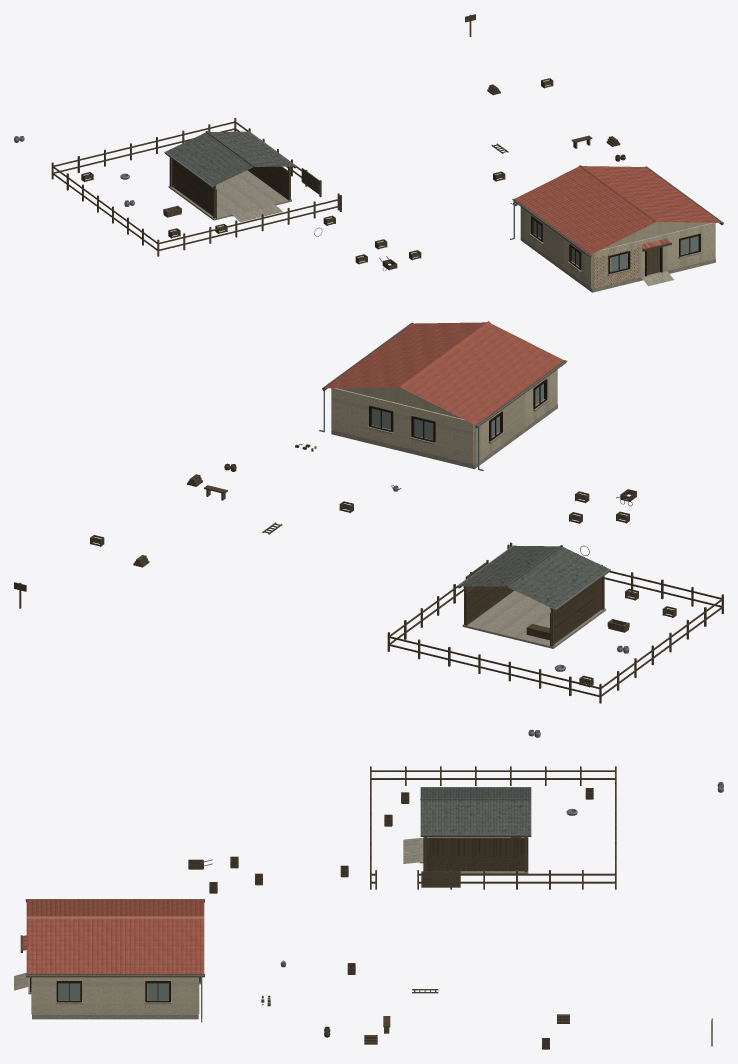
The picture shows the model from 3 angles, top to bottom: view 1: azimuth 30°, elevation 25°; view 2: azimuth 150°, elevation 25°; view 3: azimuth 270°, elevation 25°; orthographic projection. The views are drawn at different scales.
Parts seen in each view (by area): view 1: H15_TELHAS, H15_ABRIGO_RURAL_COBERTURA, H15_FACHADA, H15_CERCADO_TRAVESSAS, H15_ABRIGO_RURAL_BASE, H15_ABRIGO_RURAL_FECHAMENTO, H15_LATERAIS, H15_CERCADO_POSTES, H15_TIJOLOS_APARENTES, H15_OITOES, H15_VIDROS_RECUADOS, H15_FUNDACAO (+1 smaller); view 2: H15_TELHAS, H15_FUNDOS, H15_ABRIGO_RURAL_COBERTURA, H15_ABRIGO_RURAL_BASE, H15_ABRIGO_RURAL_FECHAMENTO, H15_CERCADO_TRAVESSAS, H15_LATERAIS, H15_CERCADO_POSTES, H15_OITOES, H15_FUNDACAO, H15_VIDROS_RECUADOS, H15_CAIXILHOS; view 3: H15_TELHAS, H15_ABRIGO_RURAL_COBERTURA, H15_LATERAIS, H15_ABRIGO_RURAL_FECHAMENTO, H15_CERCADO_TRAVESSAS, H15_CERCADO_POSTES, H15_FUNDACAO, H15_VIDROS_RECUADOS, H15_BEIRAIS, H15_CERCADO_CANCELA_RECOLHIDA, H15_CALHA, H15_CUMEEIRA (+1 smaller).
Part boxes in pixels (bbox=[...]): H15_TELHAS: bbox=[515, 166, 721, 254]; H15_ABRIGO_RURAL_COBERTURA: bbox=[166, 131, 294, 186]; H15_FACHADA: bbox=[592, 223, 715, 288]; H15_CERCADO_TRAVESSAS: bbox=[52, 121, 340, 250]; H15_ABRIGO_RURAL_BASE: bbox=[168, 170, 291, 220]; H15_ABRIGO_RURAL_FECHAMENTO: bbox=[172, 159, 289, 219]; H15_LATERAIS: bbox=[520, 207, 715, 288]; H15_CERCADO_POSTES: bbox=[51, 118, 341, 256]; H15_TIJOLOS_APARENTES: bbox=[594, 247, 640, 288]; H15_OITOES: bbox=[602, 222, 709, 249]; H15_VIDROS_RECUADOS: bbox=[533, 220, 698, 271]; H15_FUNDACAO: bbox=[520, 237, 715, 292]; H15_TELHAS: bbox=[324, 322, 564, 425]; H15_FUNDOS: bbox=[332, 388, 474, 464]; H15_ABRIGO_RURAL_COBERTURA: bbox=[459, 545, 608, 609]; H15_ABRIGO_RURAL_BASE: bbox=[462, 590, 605, 648]; H15_ABRIGO_RURAL_FECHAMENTO: bbox=[465, 578, 601, 646]; H15_CERCADO_TRAVESSAS: bbox=[389, 547, 722, 696]; H15_LATERAIS: bbox=[331, 369, 557, 464]; H15_CERCADO_POSTES: bbox=[387, 542, 723, 703]; H15_OITOES: bbox=[338, 387, 462, 418]; H15_FUNDACAO: bbox=[331, 404, 557, 468]; H15_VIDROS_RECUADOS: bbox=[372, 383, 543, 439]; H15_CAIXILHOS: bbox=[369, 379, 547, 442]; H15_TELHAS: bbox=[26, 899, 204, 974]; H15_ABRIGO_RURAL_COBERTURA: bbox=[420, 787, 531, 834]; H15_LATERAIS: bbox=[33, 977, 197, 1014]; H15_ABRIGO_RURAL_FECHAMENTO: bbox=[423, 837, 528, 871]; H15_CERCADO_TRAVESSAS: bbox=[370, 770, 616, 883]; H15_CERCADO_POSTES: bbox=[370, 766, 616, 889]; H15_FUNDACAO: bbox=[32, 983, 198, 1019]; H15_VIDROS_RECUADOS: bbox=[58, 983, 168, 1000]; H15_BEIRAIS: bbox=[26, 899, 204, 977]; H15_CERCADO_CANCELA_RECOLHIDA: bbox=[421, 871, 460, 887]; H15_CALHA: bbox=[25, 899, 204, 976]; H15_CUMEEIRA: bbox=[26, 916, 204, 918].
Bounding box in the file's own units: 36 × 4.28 × 40.58.
12 materials, 10 textured.
